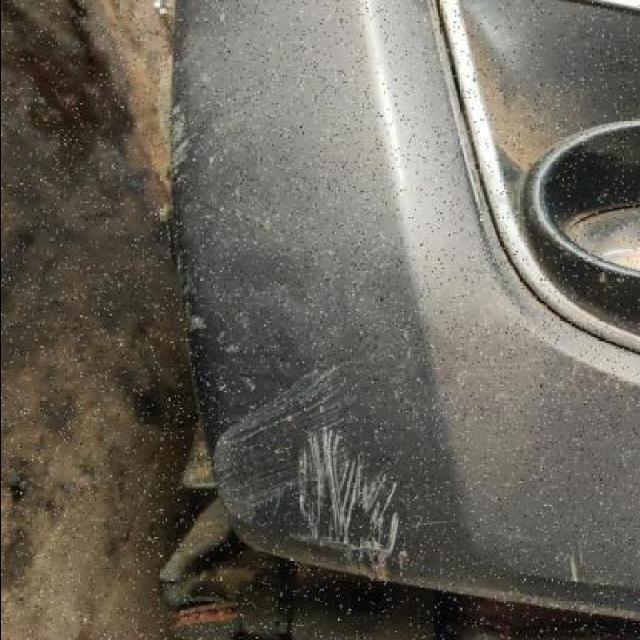front-bumper-dent: (166, 267, 640, 619)
